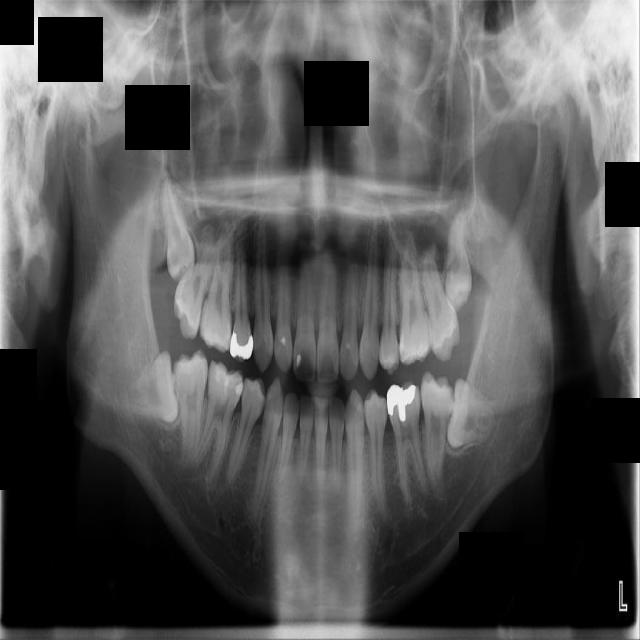3M ESPE Implant: (161, 178, 196, 281)
52: (197, 359, 250, 411), (384, 380, 424, 427), (292, 331, 318, 382), (229, 322, 256, 362), (339, 333, 359, 380), (273, 328, 293, 372)
73: (578, 560, 592, 561)
BioHorizons Implant: (418, 246, 463, 361)
BioLife Implant: (443, 213, 478, 311)
Blue Sky Bio Implant: (419, 370, 462, 500)
Caries: (166, 223, 221, 340)
Implant: (171, 350, 217, 464)
Keystone Dental Implant: (443, 376, 501, 453), (128, 350, 180, 426)
